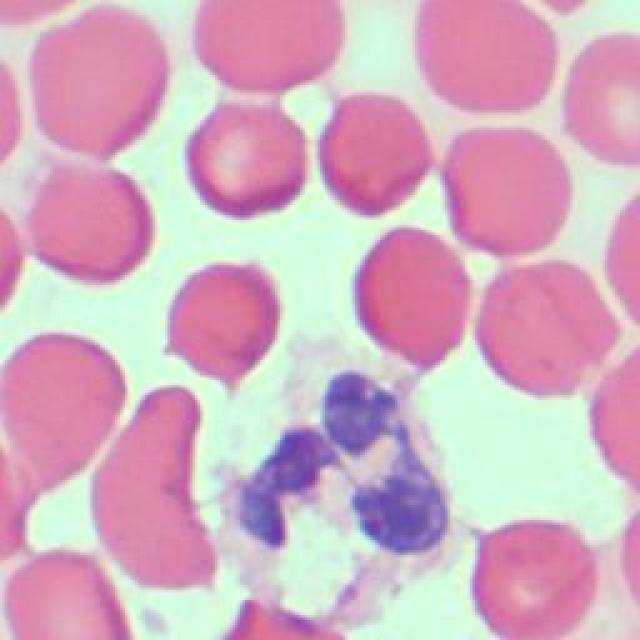RBC: (214, 340, 468, 635), (0, 332, 128, 546), (94, 383, 211, 595), (472, 258, 620, 402), (34, 9, 171, 156), (437, 128, 575, 258), (352, 222, 472, 368), (23, 162, 158, 288), (469, 512, 601, 640), (160, 262, 282, 398), (414, 2, 558, 116), (182, 98, 310, 222), (316, 92, 434, 218), (189, 0, 346, 90), (0, 552, 135, 640), (565, 30, 640, 172), (590, 350, 640, 498), (602, 185, 640, 333)
WBC: (214, 340, 468, 635)
